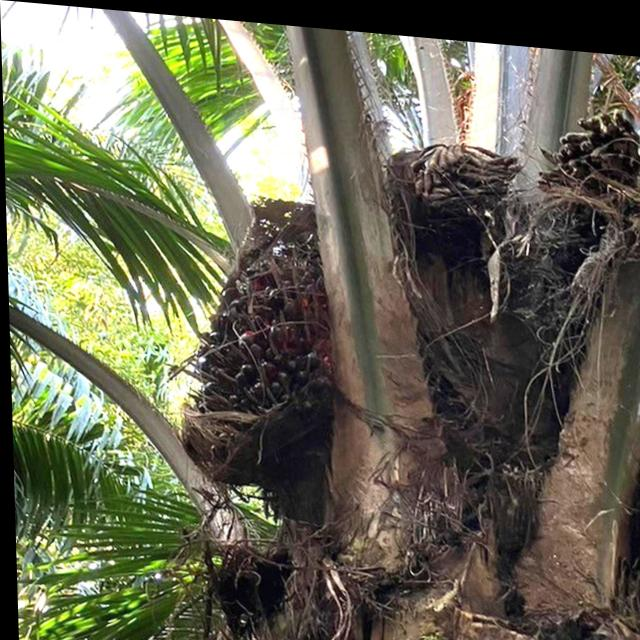ripe: (177, 176, 352, 482)
